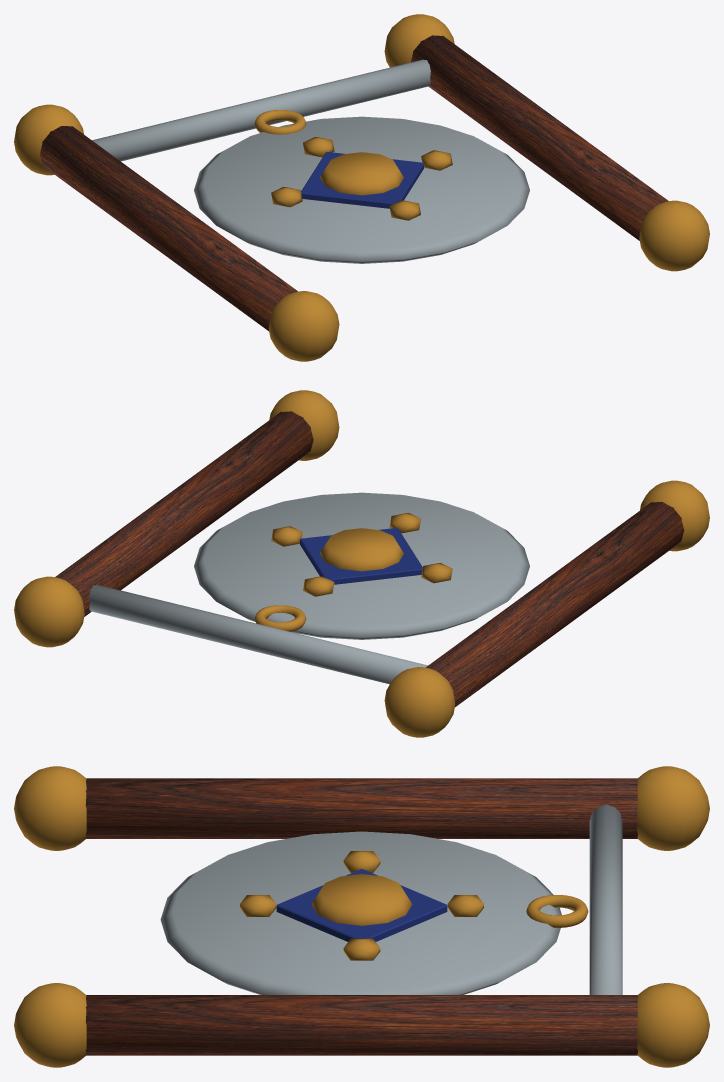
Rendered from item_gong.glb.
The picture shows the model from 3 angles, top to bottom: view 1: azimuth 30°, elevation 25°; view 2: azimuth 150°, elevation 25°; view 3: azimuth 270°, elevation 25°; orthographic projection. The views are drawn at different scales.
Parts seen in each view (by area): view 1: props_gong; view 2: props_gong; view 3: props_gong.
Part boxes in pixels (x1,y1,x2,y2): props_gong: (14,14,709,361); props_gong: (14,390,709,737); props_gong: (14,766,709,1067).
Bounding box in the file's own units: 0.98 × 0.14 × 1.14.
Materials: 4 (1 with a texture image).
